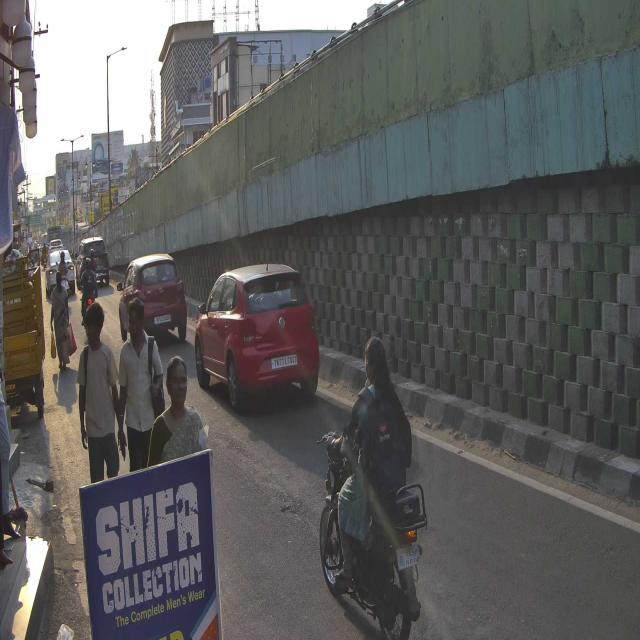single_rider: (316, 327, 428, 640)
